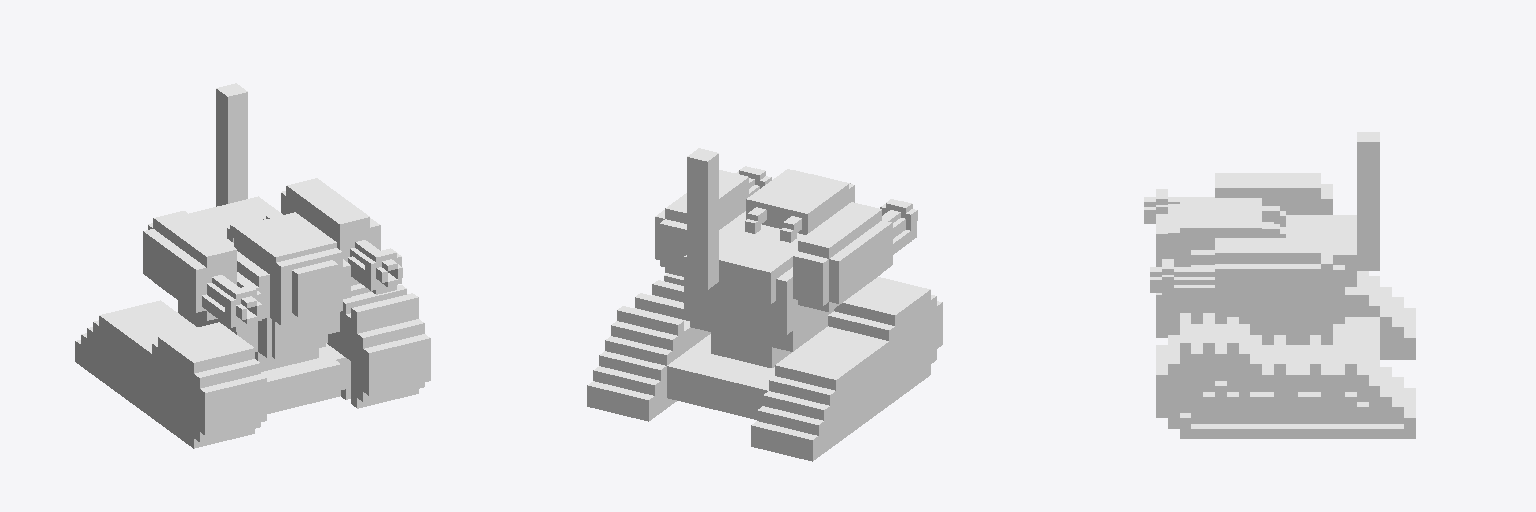
Rendered from testRobot2-0.obj.
3 renders of one model, left to right at view 1: azimuth 30°, elevation 25°; view 2: azimuth 150°, elevation 25°; view 3: azimuth 270°, elevation 25°, orthographic.
Visible parts, largest first — view 1: object 1; view 2: object 1; view 3: object 1.
Part boxes in pixels (x1,y1,x2,y2): object 1: (75, 83, 430, 448); object 1: (587, 148, 942, 461); object 1: (1144, 132, 1415, 438).
Bounding box in the file's own units: 4.4 × 4.8 × 4.6.